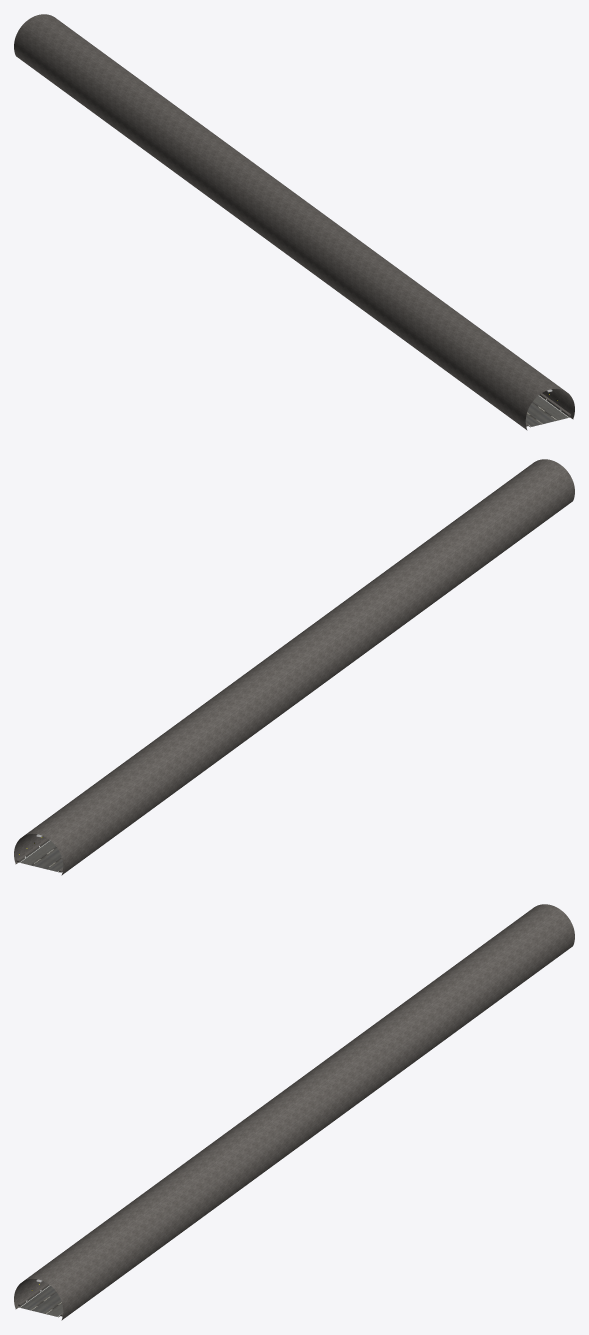
The model's file is road-tunnel.glb.
The picture shows the model from 3 angles, top to bottom: view 1: azimuth 30°, elevation 25°; view 2: azimuth 150°, elevation 25°; view 3: azimuth 330°, elevation 25°; orthographic projection.
Visible parts, largest first — view 1: Tunnel walls, Road; view 2: Tunnel walls, Road; view 3: Tunnel walls, Road.
Part boxes in pixels (x1,y1,x2,y2): Tunnel walls: (14, 14, 574, 430); Road: (525, 395, 570, 427); Tunnel walls: (14, 459, 574, 875); Road: (18, 840, 63, 872); Tunnel walls: (14, 904, 574, 1320); Road: (18, 1285, 63, 1317).
Size of the model in its own units: 10.71 by 7.42 by 193.
Materials: 13 (3 with a texture image).
